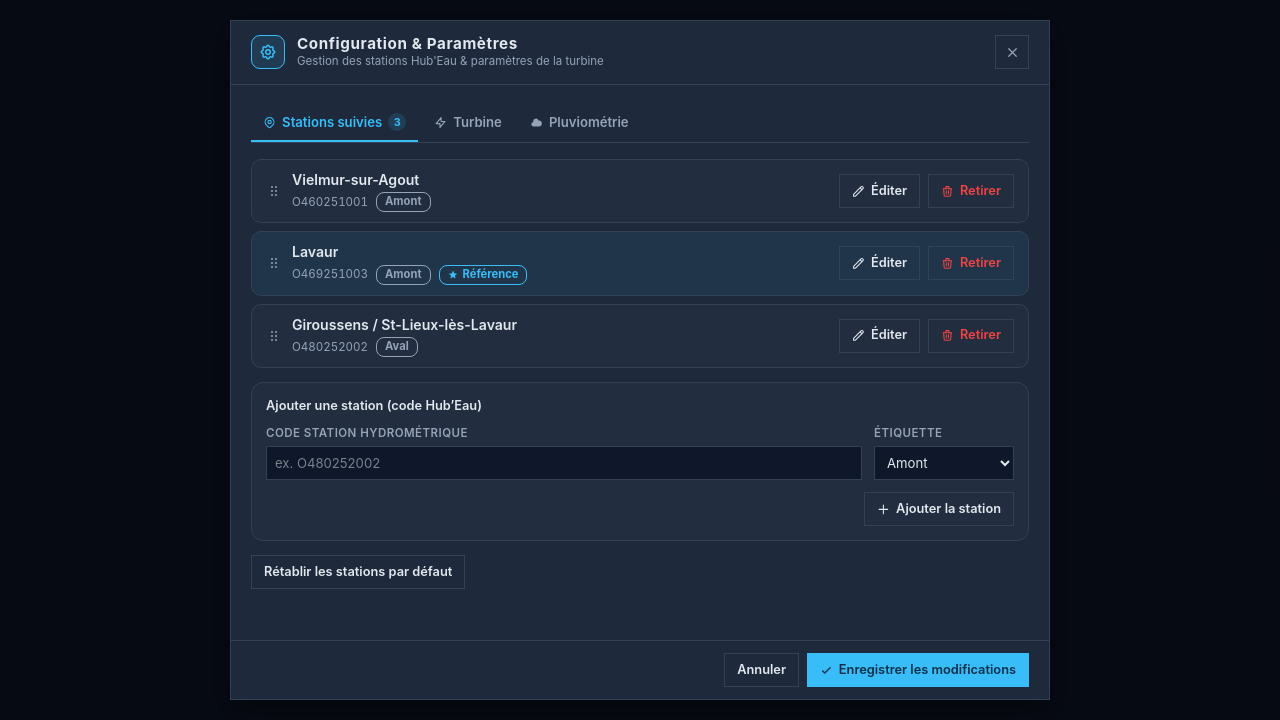
Test: ConfigModal › onglet Stations › retire une station du brouillon sans toucher à la configuration
The image size is (1280, 720).
Click the button with aria-label "Retirer O460251001": {"x": 971, "y": 191} [928,174,1014,208]
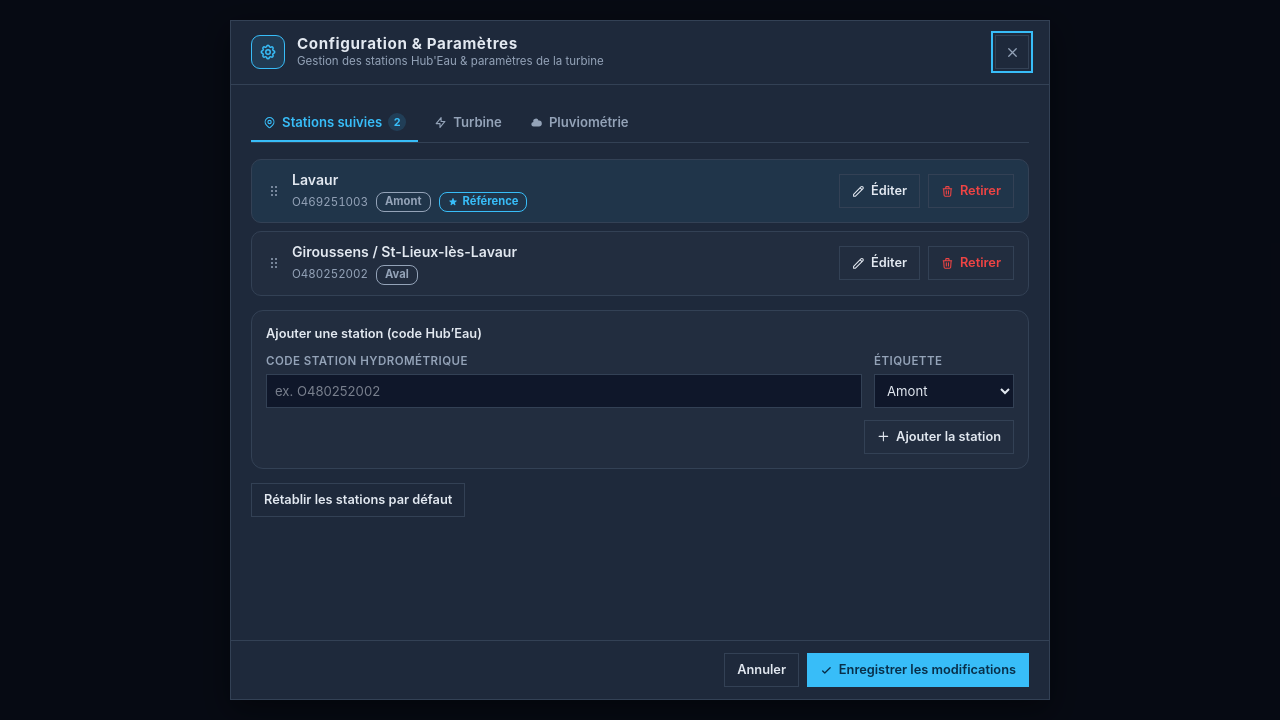
Expected: the text "O460251001" is gone
